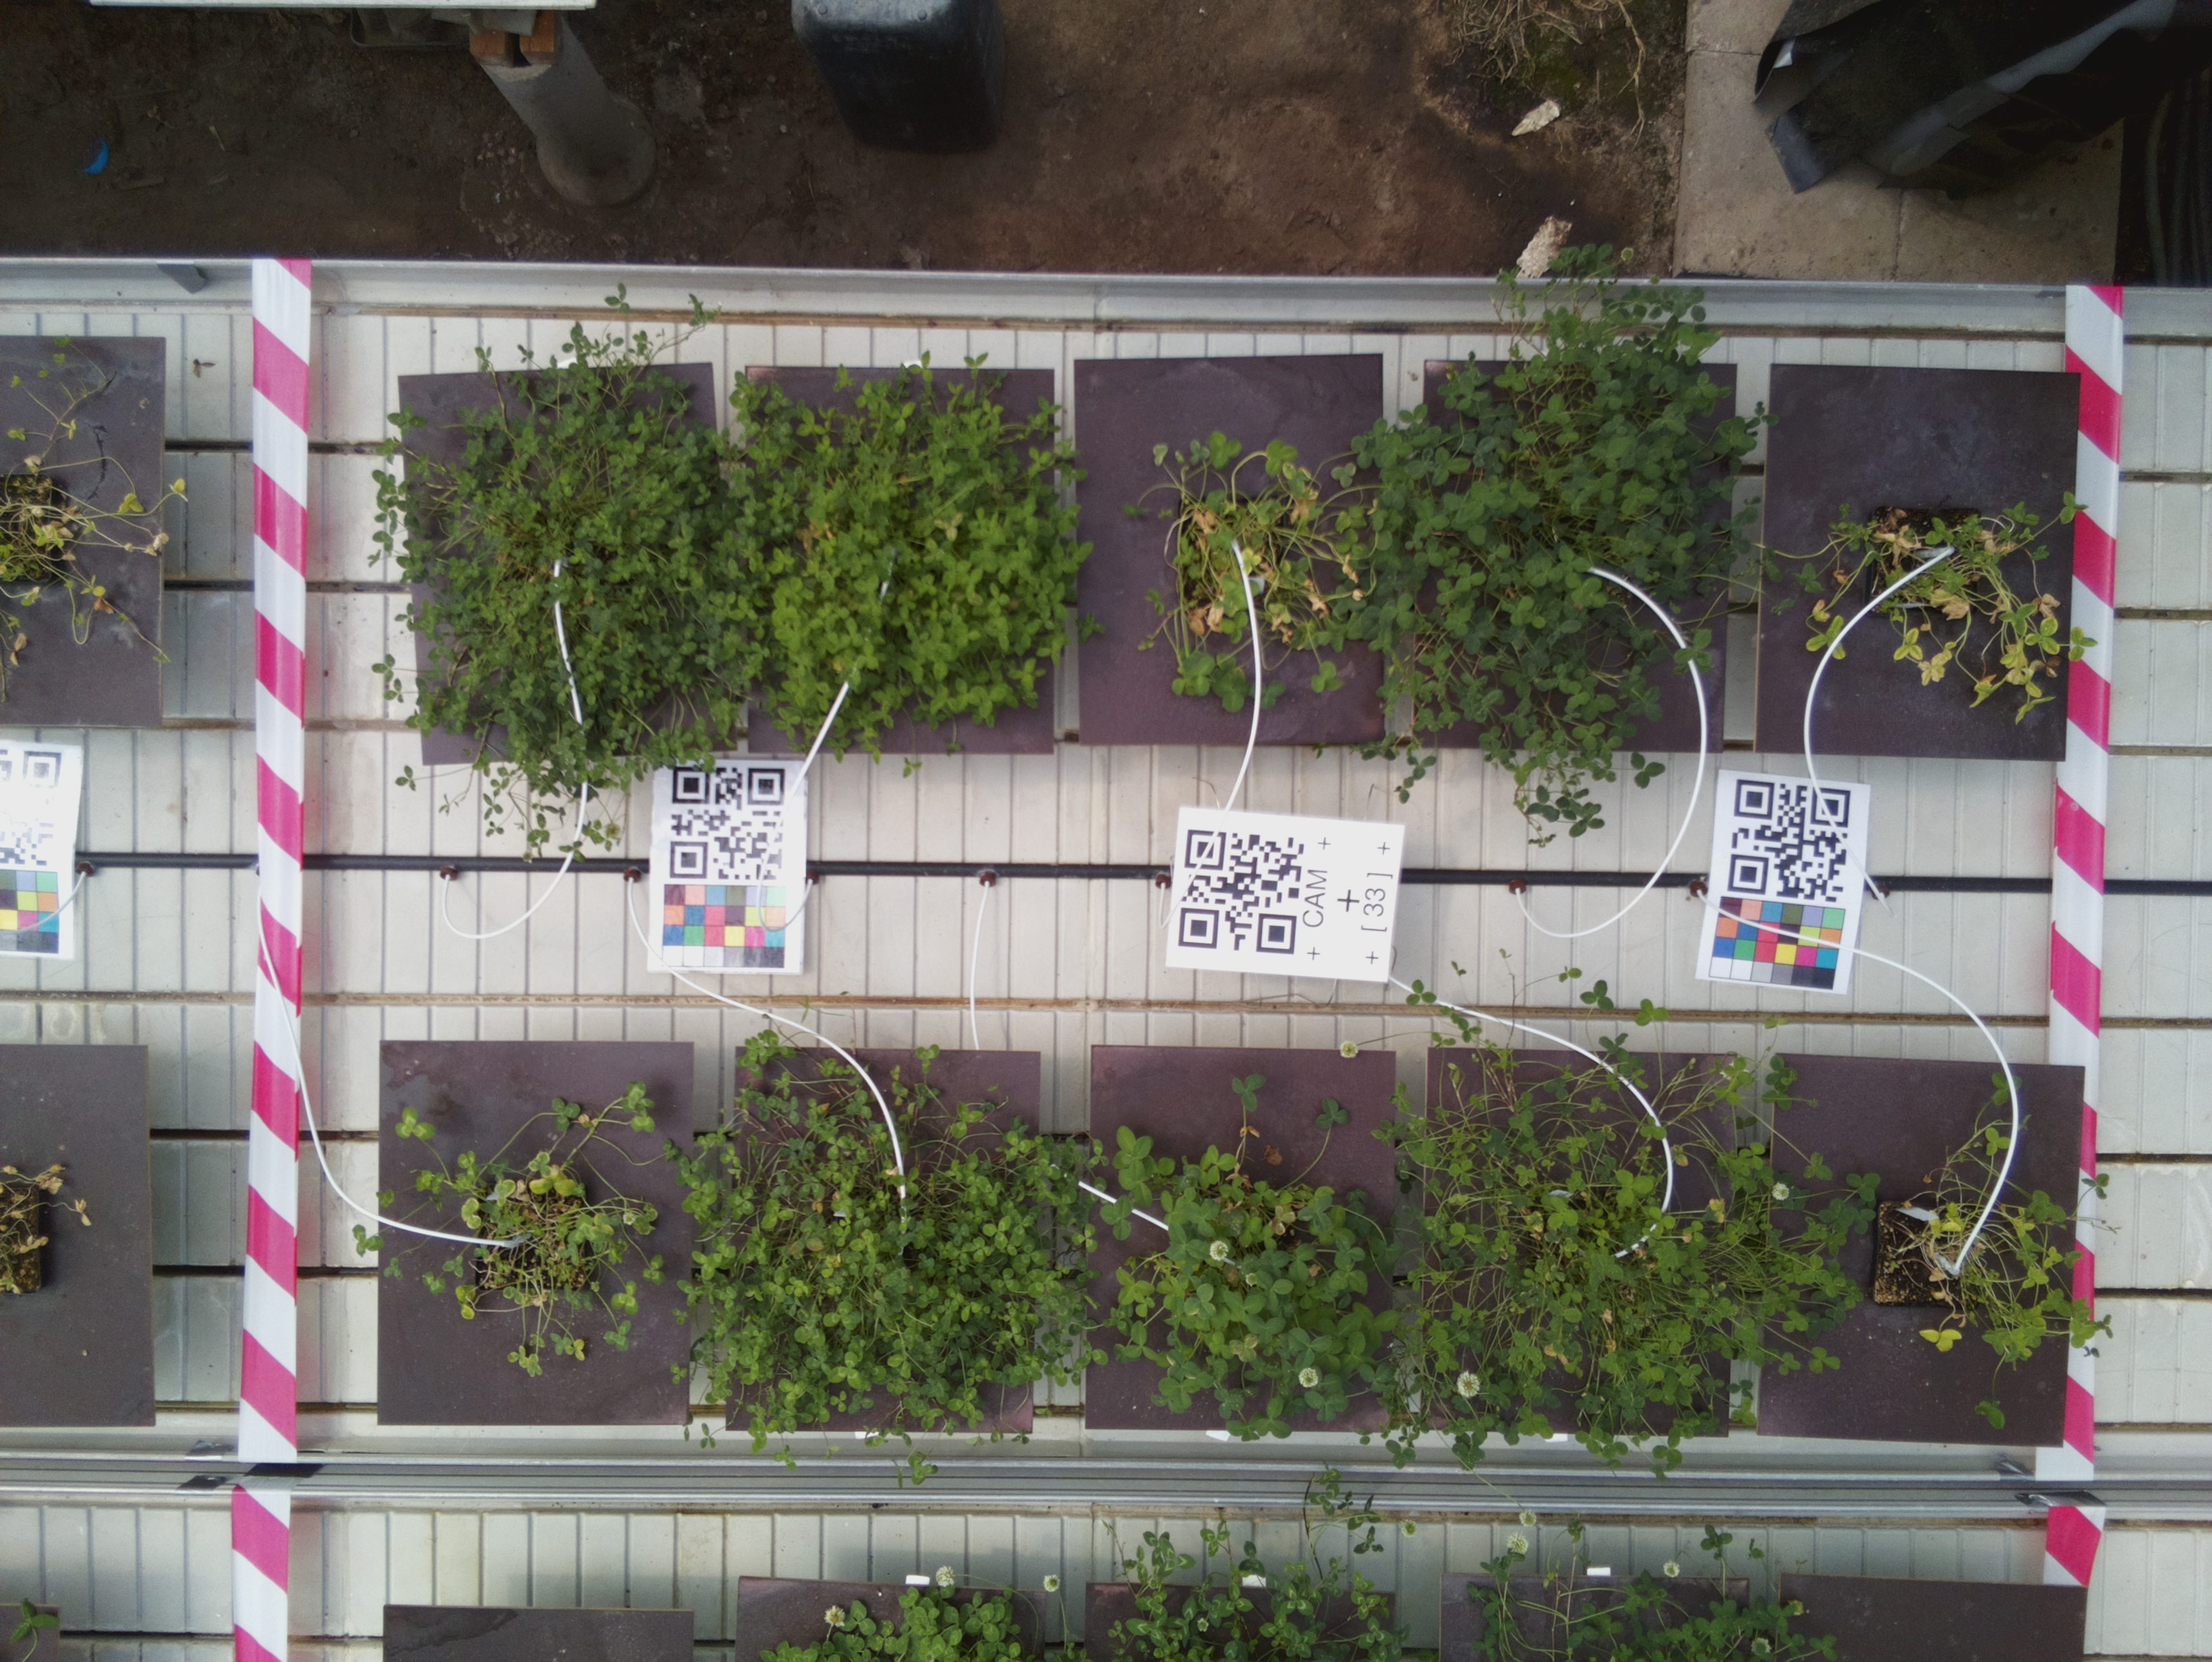POT: (391, 367, 732, 744), (733, 356, 1053, 756), (1767, 358, 2078, 766), (1075, 356, 1391, 756), (1770, 1051, 2079, 1446), (1423, 361, 1734, 751), (379, 1035, 686, 1428), (1081, 1042, 1386, 1437), (1426, 1047, 1735, 1435), (737, 1042, 1032, 1433)
QRCODE: (1168, 803, 1400, 981)
QRCOLOR: (1699, 768, 1868, 999), (651, 761, 807, 967)
